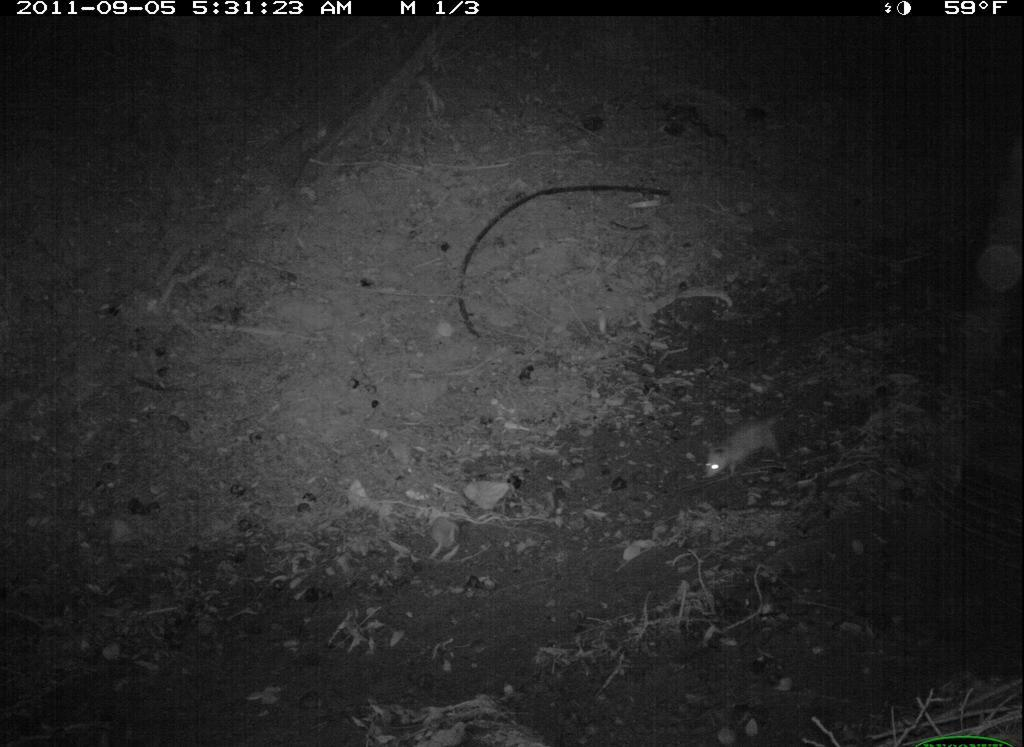opossum: (696, 397, 795, 486)
